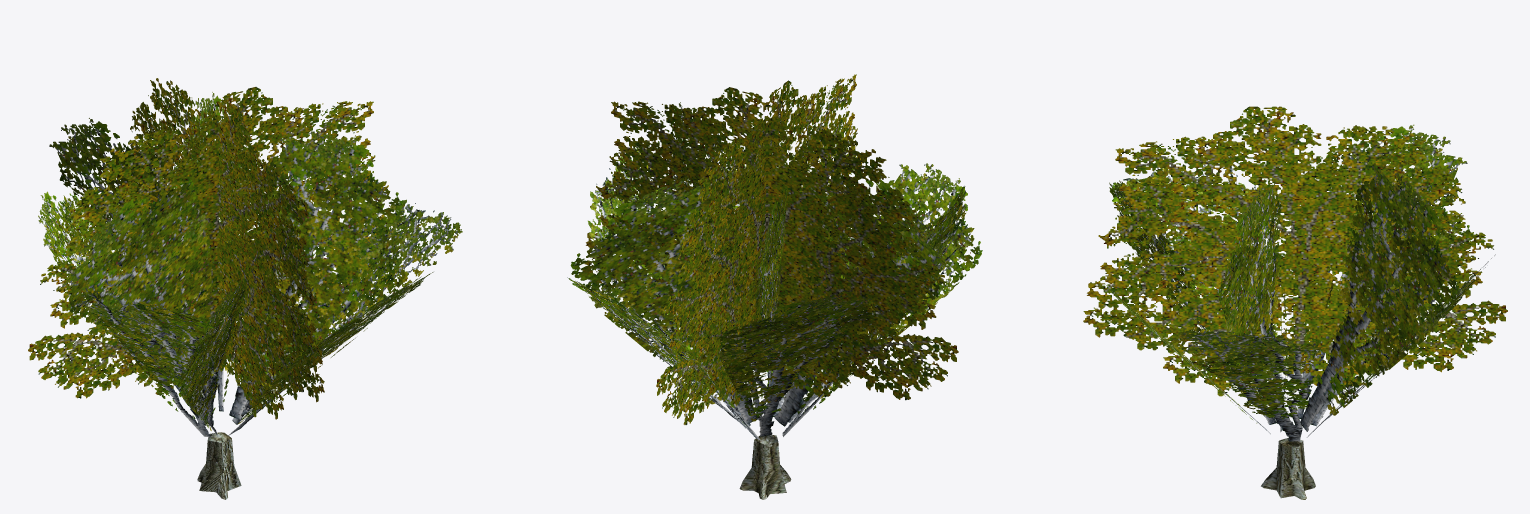
File: skMapleTreeFullMesh.obj
3 views of the same model, side by side, from view 1: azimuth 30°, elevation 25°; view 2: azimuth 150°, elevation 25°; view 3: azimuth 270°, elevation 25° (orthographic). The views are drawn at different scales.
Visible parts, largest first — view 1: None, material 2, material_0; view 2: material 2, None, material_0; view 3: material 2, None, material_0.
Boxes of the visible parts, left/top/right/bottom form: None: left=38, top=92, right=462, bottom=437; material 2: left=28, top=78, right=400, bottom=419; material_0: left=197, top=432, right=241, bottom=499; material 2: left=582, top=74, right=958, bottom=424; None: left=567, top=102, right=982, bottom=440; material_0: left=739, top=434, right=791, bottom=499; material 2: left=1083, top=106, right=1507, bottom=396; None: left=1105, top=124, right=1495, bottom=441; material_0: left=1261, top=437, right=1315, bottom=499.
Size of the model in its own units: 541 by 516 by 544.
Materials: 3 (3 with a texture image).
